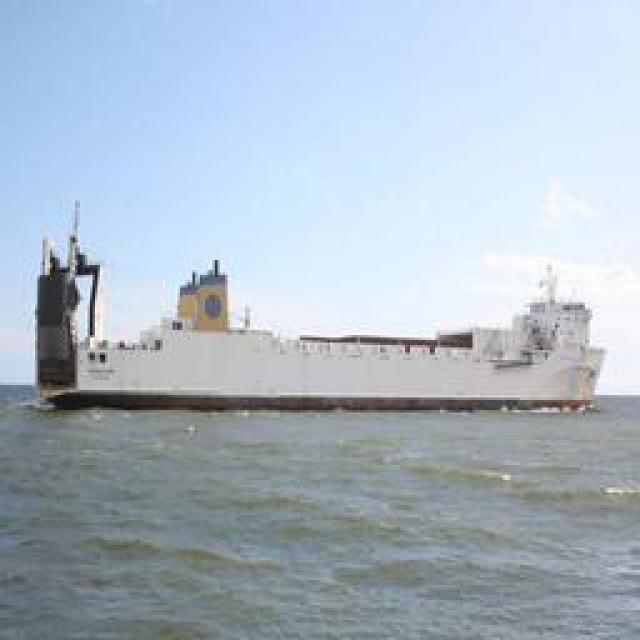Ship: (26, 196, 601, 420)
